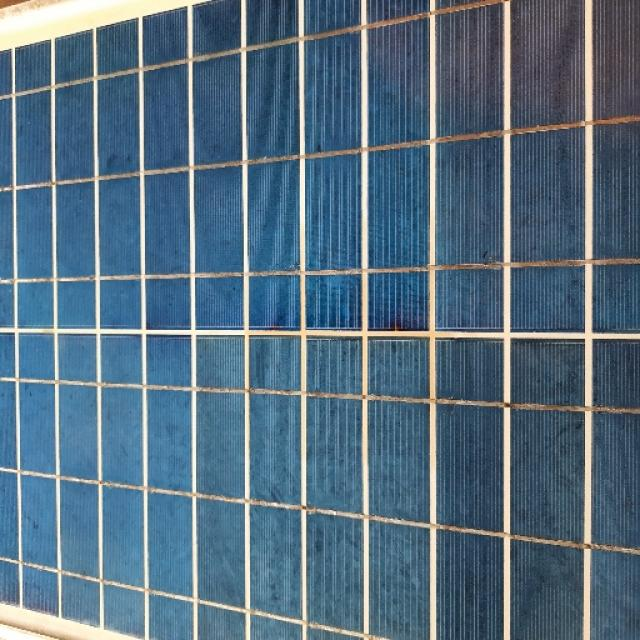Clean: (0, 50, 640, 640)
